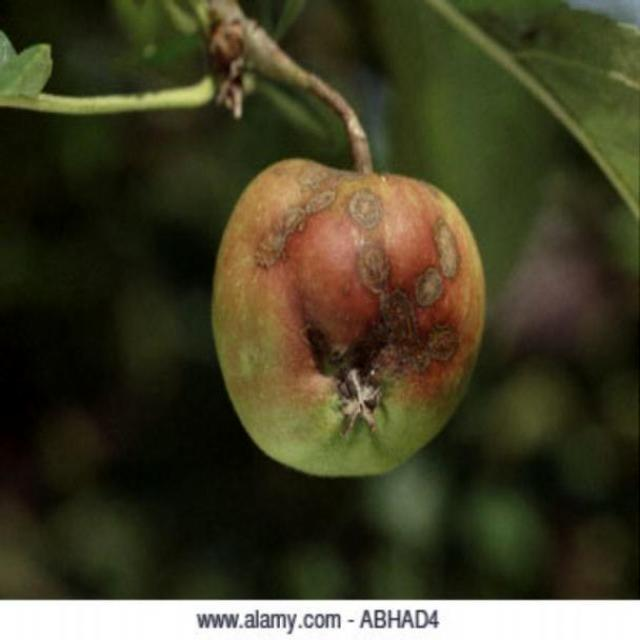SCAB: (189, 115, 502, 492)
